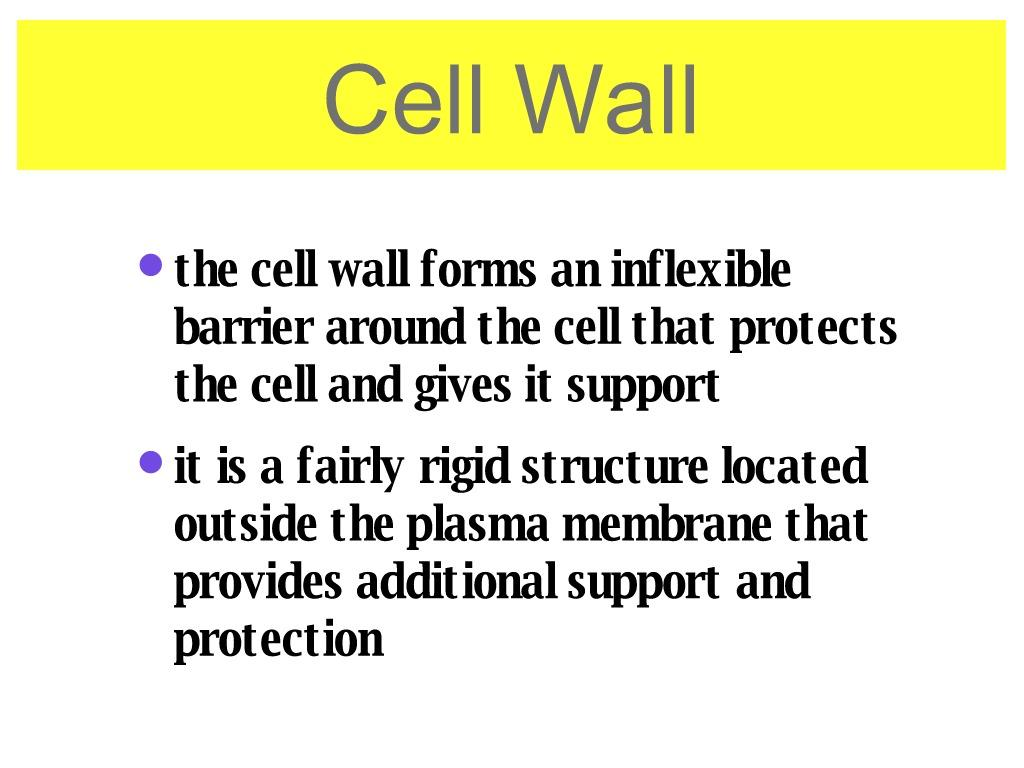paragraph: (135, 232, 930, 694)
title: (316, 40, 705, 152)
